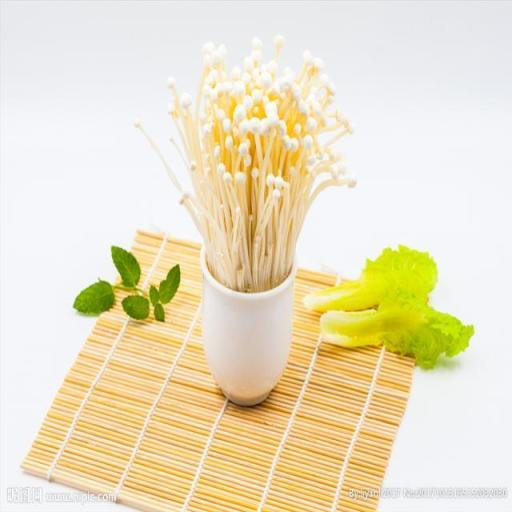Enoki Mushroom: (130, 38, 356, 286)
